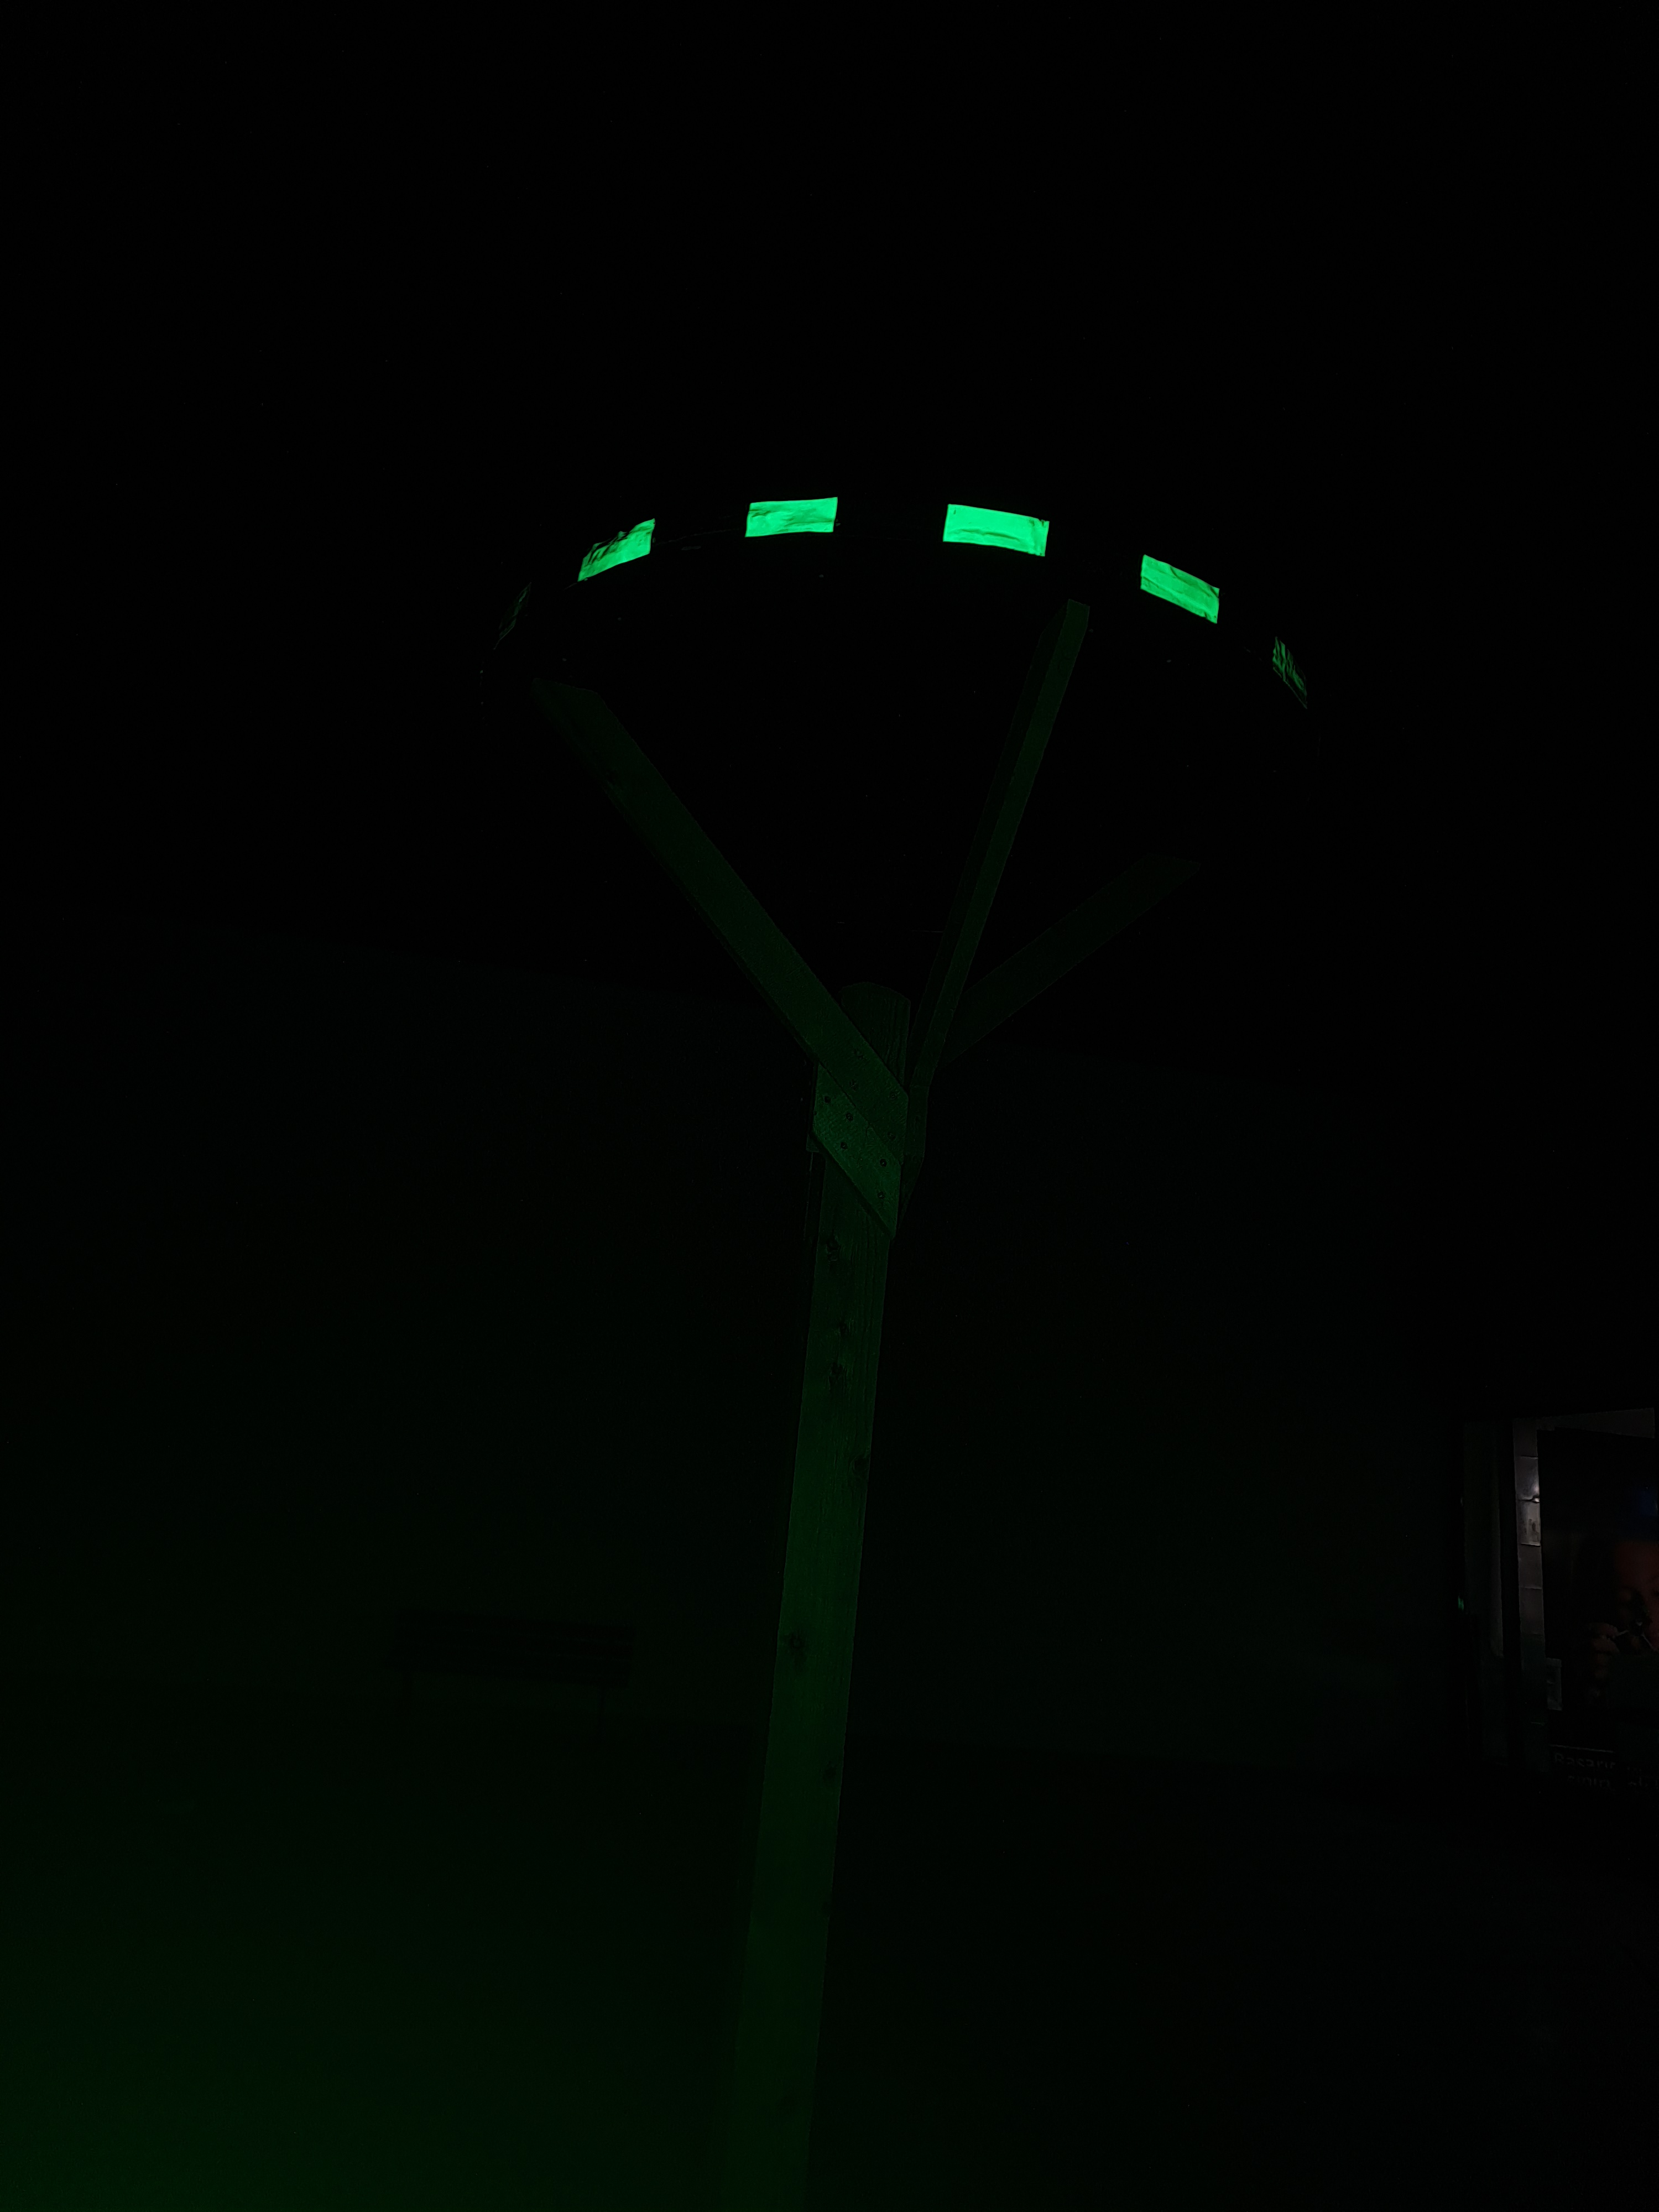hoop: (572, 488, 1310, 711)
